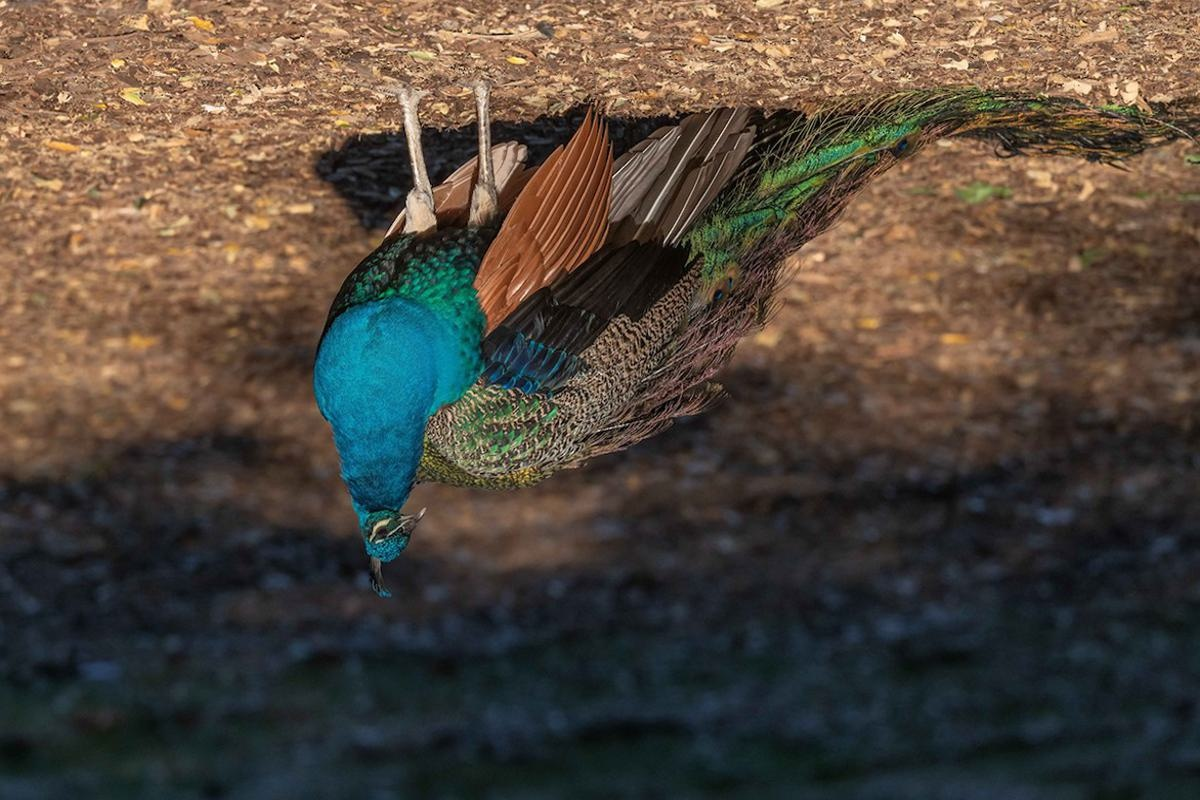peacock: (287, 70, 899, 593)
